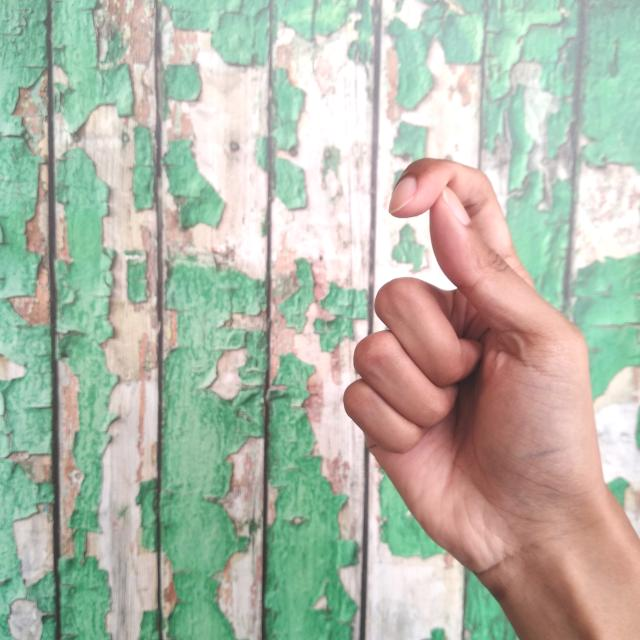T: (341, 153, 639, 640)
